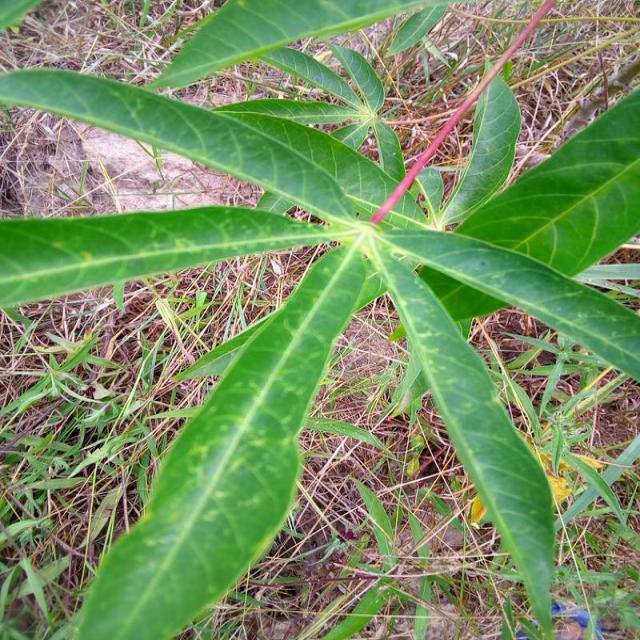cassava leaf: (1, 9, 638, 638), (70, 238, 367, 638)
